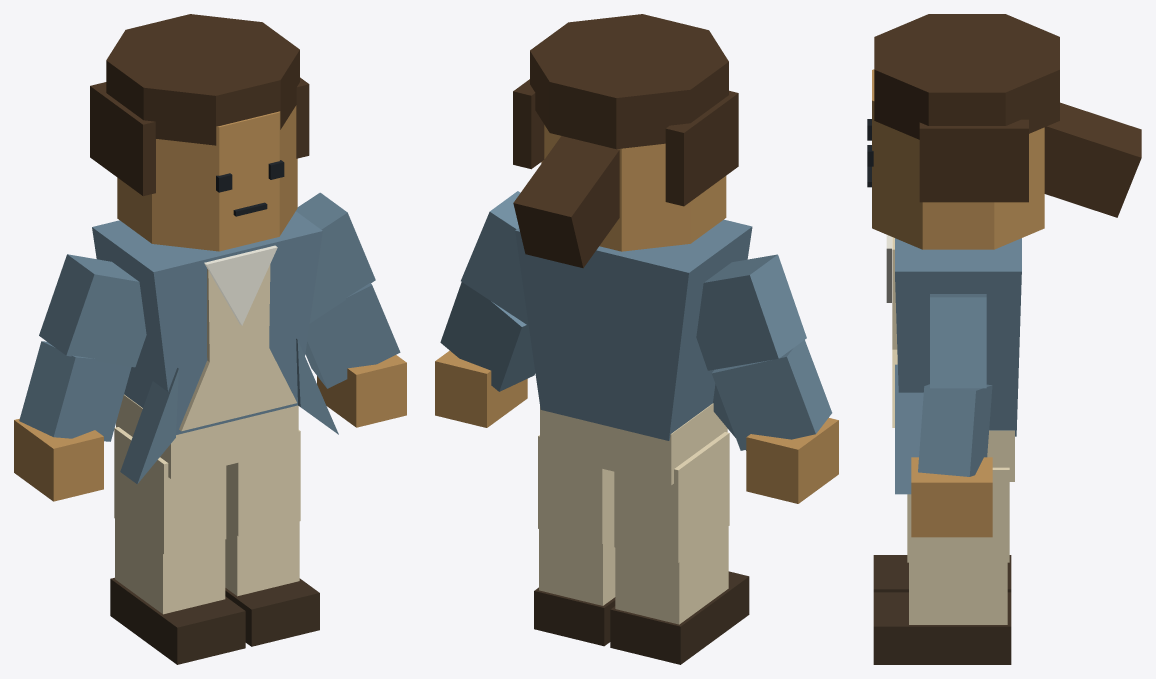
The model's file is Laurens.glb.
The picture shows the model from 3 angles, left to right: view 1: azimuth 30°, elevation 25°; view 2: azimuth 150°, elevation 25°; view 3: azimuth 270°, elevation 25°; orthographic projection. The views are drawn at different scales.
Parts seen in each view (by area): view 1: Body_M_CastV02_slate_6f8ea2, Body_M_CastV02_cream_f1e3bf, Body_M_CastV02_skin_c8995b, Body_M_CastV02_hair_4d3722, Body, Body_M_CastV02_white_f9f7ea, Body_M_CastV02_black_1d2228; view 2: Body_M_CastV02_slate_6f8ea2, Body_M_CastV02_hair_4d3722, Body_M_CastV02_cream_f1e3bf, Body_M_CastV02_skin_c8995b, Body; view 3: Body_M_CastV02_hair_4d3722, Body_M_CastV02_slate_6f8ea2, Body_M_CastV02_skin_c8995b, Body_M_CastV02_cream_f1e3bf, Body.
Part boxes in pixels (box(x1,y1,x2,y2)): Body_M_CastV02_slate_6f8ea2: box(19, 192, 400, 484); Body_M_CastV02_cream_f1e3bf: box(114, 264, 300, 614); Body_M_CastV02_skin_c8995b: box(14, 105, 406, 501); Body_M_CastV02_hair_4d3722: box(90, 14, 309, 196); Body: box(110, 577, 319, 664); Body_M_CastV02_white_f9f7ea: box(204, 245, 277, 325); Body_M_CastV02_black_1d2228: box(216, 160, 284, 192); Body_M_CastV02_slate_6f8ea2: box(440, 191, 832, 450); Body_M_CastV02_hair_4d3722: box(513, 14, 738, 268); Body_M_CastV02_cream_f1e3bf: box(538, 403, 729, 624); Body_M_CastV02_skin_c8995b: box(435, 125, 838, 503); Body: box(534, 571, 749, 664); Body_M_CastV02_hair_4d3722: box(874, 14, 1141, 217); Body_M_CastV02_slate_6f8ea2: box(895, 238, 1021, 494); Body_M_CastV02_skin_c8995b: box(872, 69, 1044, 537); Body_M_CastV02_cream_f1e3bf: box(892, 237, 1014, 624); Body: box(873, 555, 1011, 664).
Size of the model in its own units: 1.23 by 1.8 by 0.7773.
